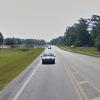Tree: (63, 16, 100, 56)
